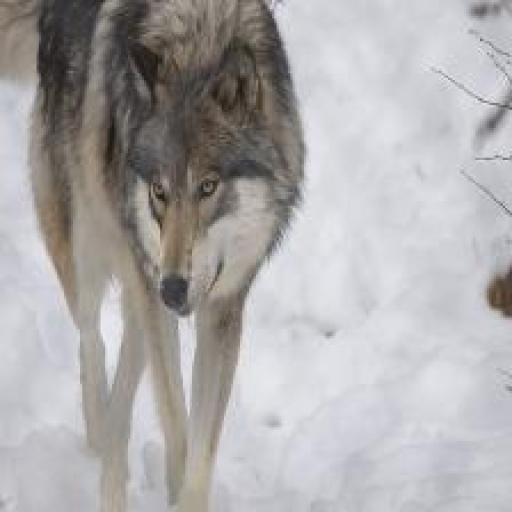wolf: (0, 0, 307, 512)
